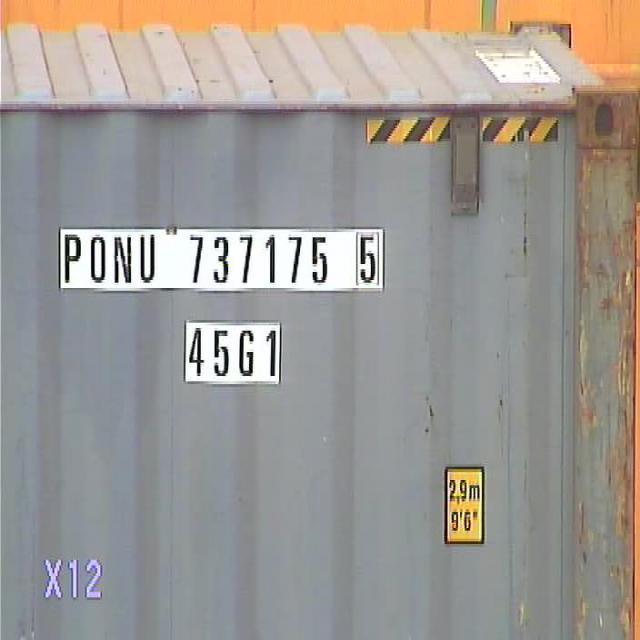container_number_h: (37, 205, 414, 422)
